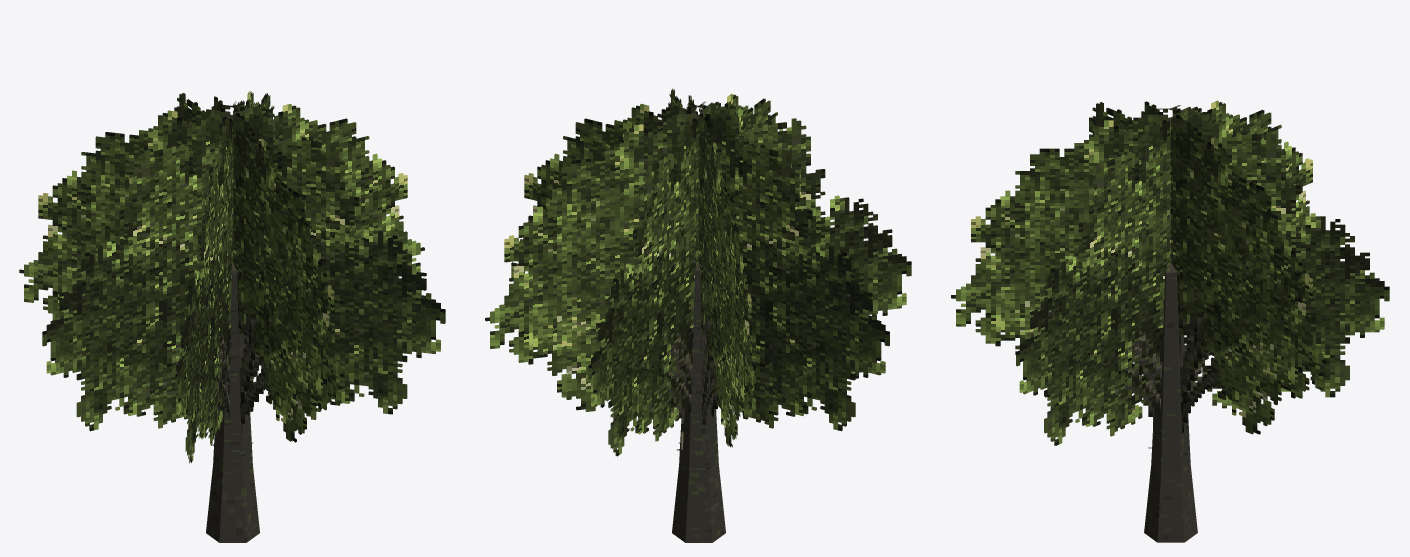
Rendered from tree19.glb.
3 views of the same model, side by side, from view 1: azimuth 30°, elevation 25°; view 2: azimuth 150°, elevation 25°; view 3: azimuth 270°, elevation 25° (orthographic).
Visible parts, largest first — view 1: tree19; view 2: tree19; view 3: tree19.
Part boxes in pixels (x1,y1,x2,y2): tree19: (19, 91, 445, 542); tree19: (485, 88, 911, 542); tree19: (951, 100, 1389, 542).
Bounding box in the file's own units: 7.68 × 8 × 7.68.
Materials: 1 (1 with a texture image).
